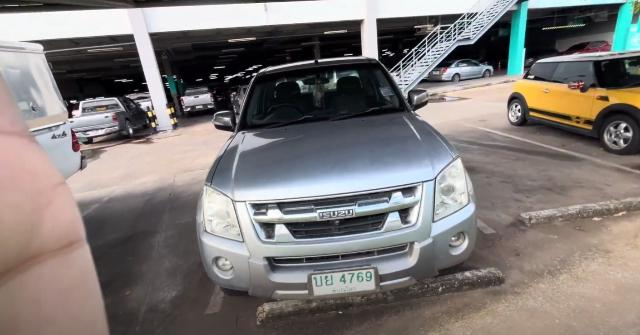pickup-truck: (195, 58, 473, 302)
